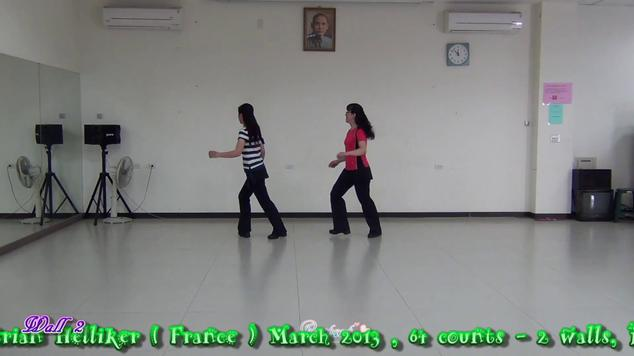walk: (323, 98, 385, 238), (224, 102, 285, 240)
